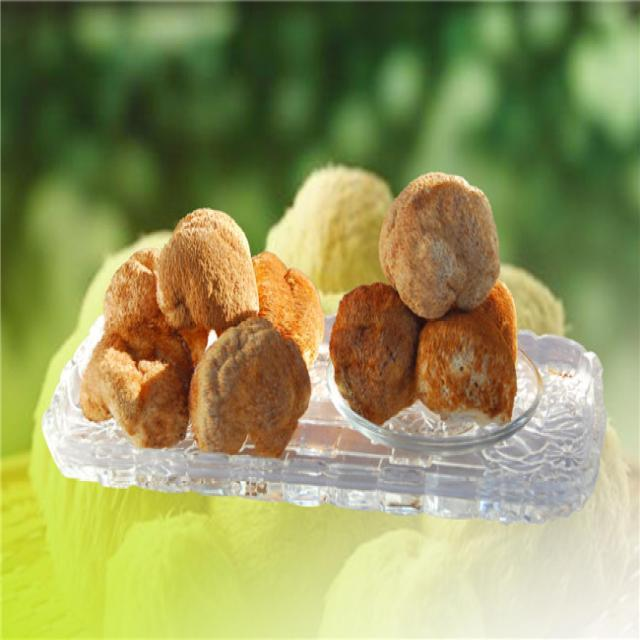Hericium erinaceus: (81, 252, 186, 442), (380, 172, 499, 316), (192, 318, 309, 454), (332, 281, 417, 423), (158, 207, 258, 326), (416, 316, 515, 425)
